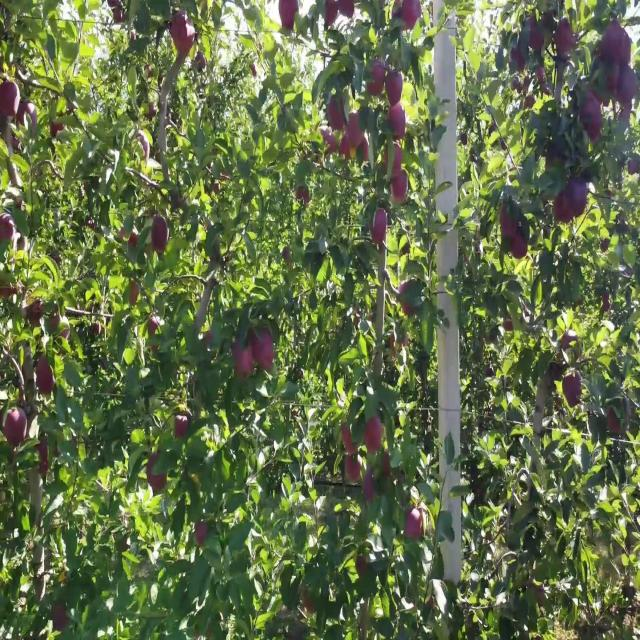apple: (604, 21, 632, 66), (580, 99, 604, 142), (172, 14, 196, 55), (232, 341, 256, 380), (4, 412, 28, 448), (252, 334, 276, 370), (36, 355, 56, 398), (568, 177, 588, 219), (148, 455, 168, 494), (364, 419, 384, 455), (556, 21, 576, 57), (384, 142, 404, 178), (368, 63, 387, 100), (500, 206, 520, 240), (388, 106, 408, 140), (372, 206, 388, 245), (0, 85, 19, 117), (556, 191, 573, 226), (280, 1, 299, 32), (564, 376, 583, 407), (620, 71, 637, 105), (404, 0, 423, 30), (52, 312, 71, 341), (388, 71, 404, 105), (392, 170, 408, 204), (328, 99, 345, 130), (348, 113, 363, 148), (152, 220, 168, 252), (528, 21, 544, 53), (52, 604, 69, 633), (520, 78, 536, 108), (36, 440, 49, 476), (408, 511, 424, 540), (0, 213, 16, 242), (512, 234, 528, 263), (16, 106, 36, 128), (120, 227, 140, 249), (176, 412, 191, 441), (148, 319, 160, 354), (400, 284, 413, 316), (136, 135, 151, 162), (340, 135, 354, 162), (348, 455, 361, 484), (392, 334, 408, 357), (340, 0, 356, 21), (512, 49, 527, 71), (344, 426, 356, 453), (364, 476, 376, 503), (324, 7, 339, 28), (524, 85, 536, 110), (304, 590, 315, 617), (608, 412, 621, 434), (608, 71, 620, 94), (196, 526, 208, 548), (360, 135, 369, 164), (112, 7, 125, 27), (148, 319, 160, 340), (324, 135, 336, 155), (52, 120, 64, 140), (296, 191, 311, 206), (0, 284, 14, 300), (536, 71, 547, 91), (564, 334, 577, 350), (524, 92, 536, 108), (536, 583, 544, 606), (356, 561, 368, 576), (628, 163, 640, 178), (284, 248, 293, 268), (132, 284, 140, 306), (604, 291, 612, 313), (384, 455, 392, 476), (504, 319, 514, 334), (536, 71, 546, 85), (392, 7, 402, 21), (204, 334, 213, 348), (148, 106, 156, 121), (540, 590, 544, 606), (92, 327, 100, 334)
